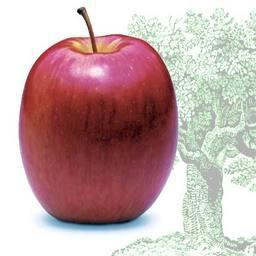apple: (16, 19, 180, 225)
